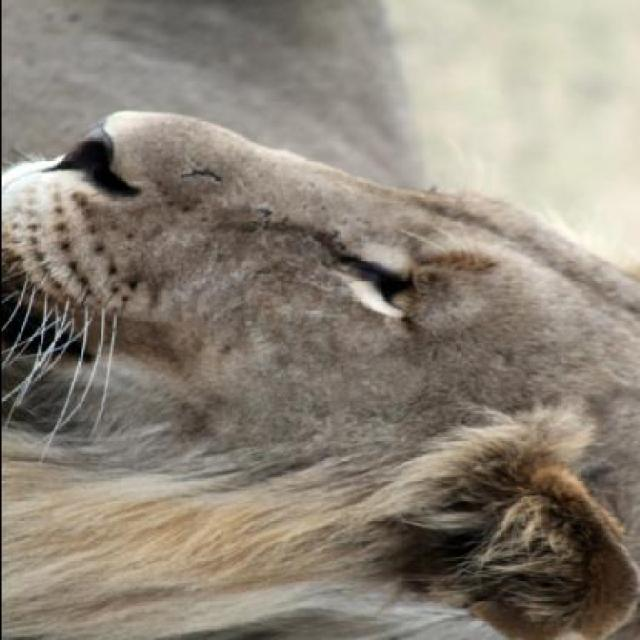Lion: (1, 80, 632, 637)
